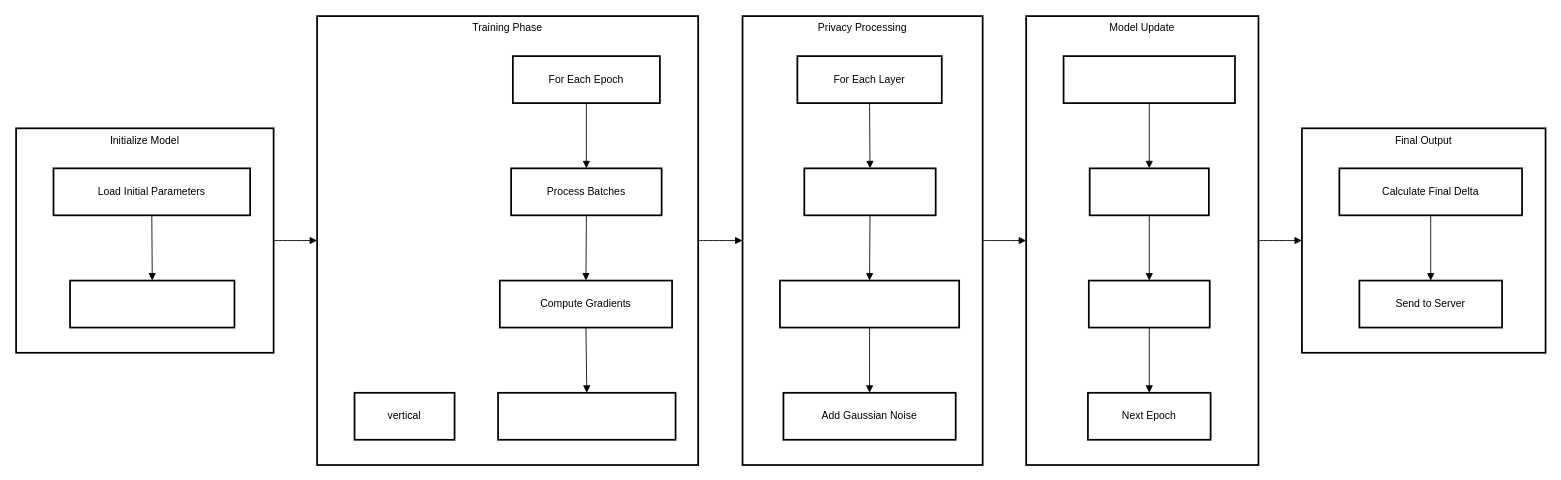
Some shapes in this 1561 by 480 pixel diagram are drawn without their labels. Each missing label, with the centre of its shape:
Calculate Sensitivity: (x=869, y=303)
Clip Updates: (x=869, y=191)
Next Batch: (x=1149, y=303)
Next Layer: (x=1148, y=191)
Set Privacy Config: (x=152, y=303)
Store Update Norms: (x=586, y=416)
Update Parameters: (x=1148, y=79)
